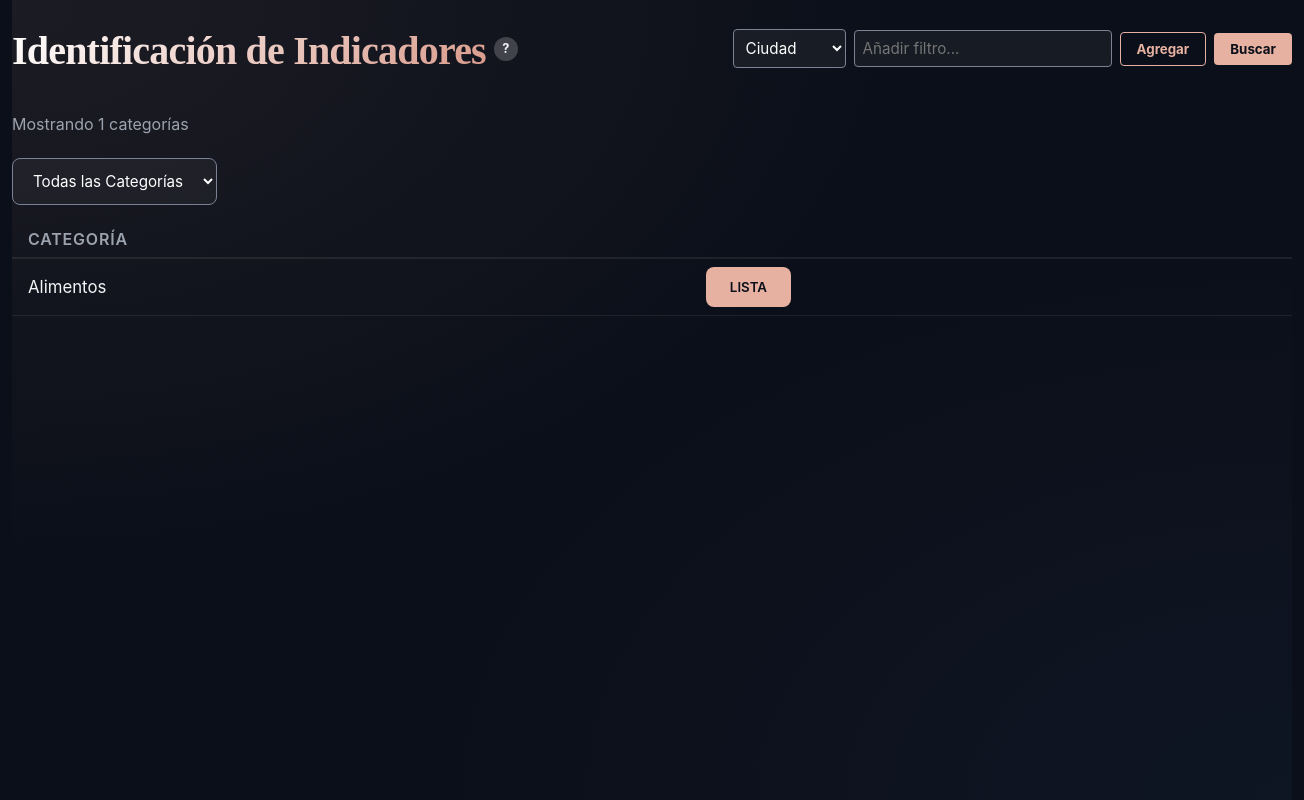
Indicadores: sigla en vez de número de registro › un valor sin resolver se muestra como texto sin botón y la referencia vacía no muestra nada
Click the button "LISTA". click: (748, 287)
box: [706, 267, 791, 307]
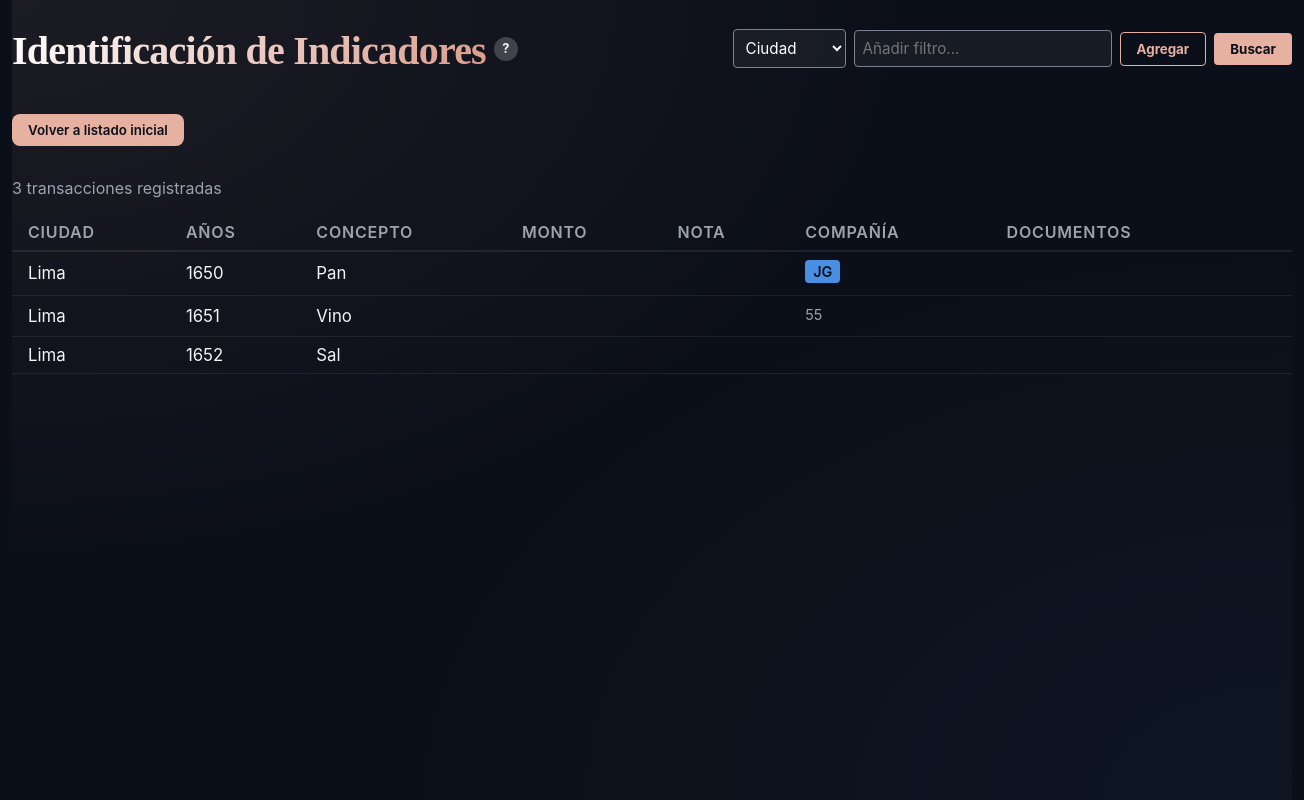
Now the button "JG" is shown, box [805, 260, 840, 283]
Now the text "55" is shown, box [805, 306, 822, 323]
